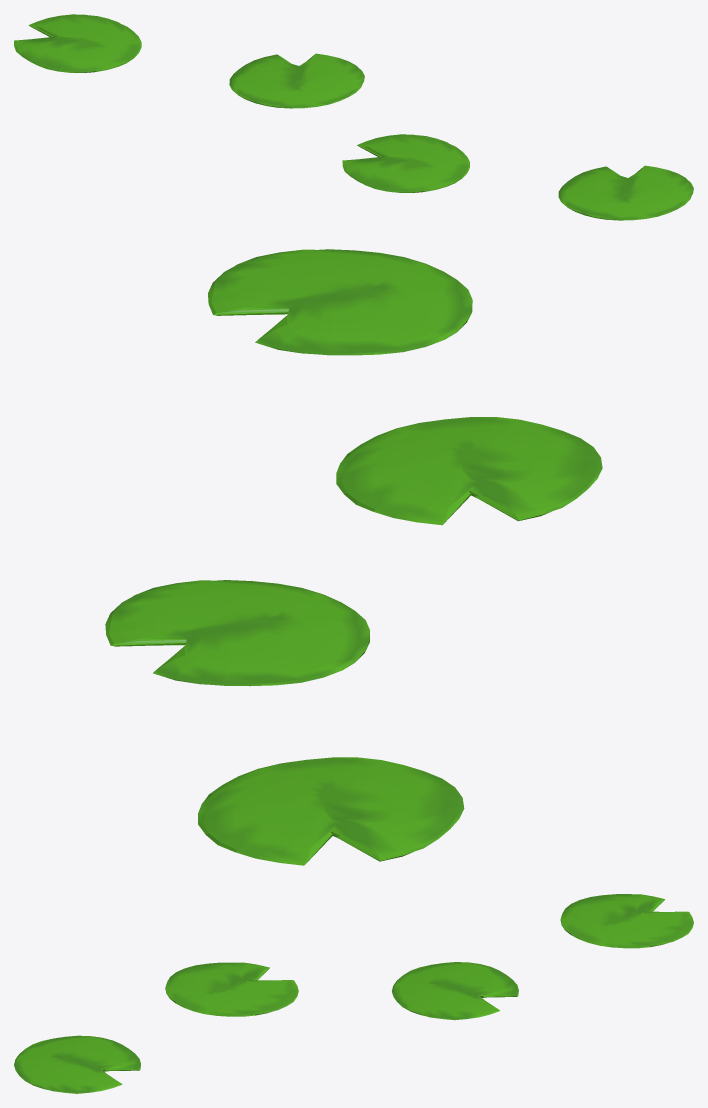
The model's file is nenuphar.fbx.
3 renders of one model, top to bottom at view 1: azimuth 30°, elevation 25°; view 2: azimuth 150°, elevation 25°; view 3: azimuth 270°, elevation 25°, orthographic. The views are drawn at different scales.
Visible parts, largest first — view 1: Sphere, Sphere.004, Sphere.002, Sphere.003; view 2: Sphere.004, Sphere, Sphere.002, Sphere.003; view 3: Sphere.003, Sphere.002, Sphere, Sphere.004.
Boxes of the visible parts, left/top/right/bottom form: Sphere: left=229, top=53, right=364, bottom=108; Sphere.004: left=558, top=165, right=693, bottom=220; Sphere.002: left=14, top=14, right=141, bottom=72; Sphere.003: left=342, top=134, right=469, bottom=192; Sphere.004: left=208, top=249, right=472, bottom=355; Sphere: left=105, top=580, right=370, bottom=686; Sphere.002: left=198, top=757, right=464, bottom=865; Sphere.003: left=336, top=417, right=602, bottom=525; Sphere.003: left=165, top=962, right=298, bottom=1016; Sphere.002: left=560, top=894, right=693, bottom=948; Sphere: left=392, top=962, right=518, bottom=1020; Sphere.004: left=14, top=1035, right=140, bottom=1093.
Bounding box in the file's own units: 496 × 23.74 × 762.
